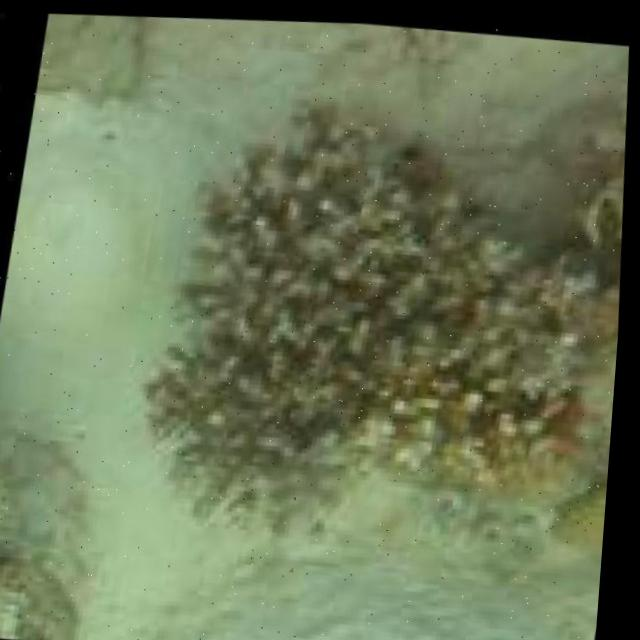Dead Coral: (111, 48, 638, 577)
